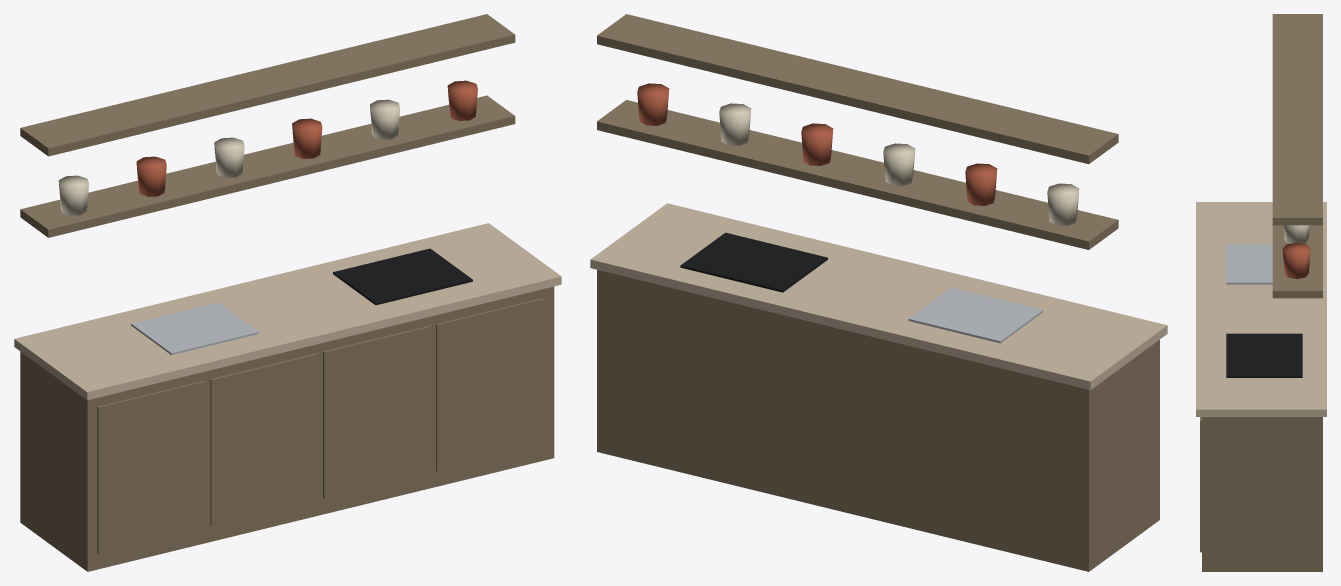
File: city_kitchen.glb
3 renders of one model, left to right at view 1: azimuth 30°, elevation 25°; view 2: azimuth 150°, elevation 25°; view 3: azimuth 270°, elevation 25°, orthographic. The views are drawn at different scales.
Parts seen in each view (by area): view 1: CityKitchen_Top, CityKitchen_Base, CityKitchen_Shelf1.9, CityKitchen_Door1, CityKitchen_Door0, CityKitchen_Door2, CityKitchen_Door3, CityKitchen_Shelf1.5, CityKitchen_Hob, CityKitchen_Sink, CityKitchen_Pot1, CityKitchen_Pot0 (+4 smaller); view 2: CityKitchen_Base, CityKitchen_Top, CityKitchen_Shelf1.9, CityKitchen_Shelf1.5, CityKitchen_Hob, CityKitchen_Sink, CityKitchen_Pot0, CityKitchen_Pot1, CityKitchen_Pot4, CityKitchen_Pot5, CityKitchen_Pot2, CityKitchen_Pot3; view 3: CityKitchen_Base, CityKitchen_Top, CityKitchen_Shelf1.9, CityKitchen_Hob, CityKitchen_Shelf1.5, CityKitchen_Sink, CityKitchen_Pot5, CityKitchen_Pot4, CityKitchen_Door3.
Boxes of the visible parts, box(x1,y1,x2,y2) form: CityKitchen_Top: box(14, 223, 561, 400); CityKitchen_Base: box(20, 286, 554, 571); CityKitchen_Shelf1.9: box(20, 14, 515, 156); CityKitchen_Door1: box(210, 353, 318, 526); CityKitchen_Door0: box(97, 380, 205, 553); CityKitchen_Door2: box(323, 325, 430, 498); CityKitchen_Door3: box(436, 298, 543, 471); CityKitchen_Shelf1.5: box(20, 95, 515, 237); CityKitchen_Hob: box(333, 248, 472, 305); CityKitchen_Sink: box(131, 302, 258, 355); CityKitchen_Pot1: box(136, 156, 166, 196); CityKitchen_Pot0: box(58, 175, 88, 215); CityKitchen_Base: box(597, 270, 1159, 571); CityKitchen_Top: box(590, 203, 1167, 389); CityKitchen_Shelf1.9: box(597, 14, 1118, 164); CityKitchen_Shelf1.5: box(597, 100, 1118, 249); CityKitchen_Hob: box(680, 232, 827, 292); CityKitchen_Sink: box(908, 287, 1043, 343); CityKitchen_Pot0: box(1047, 183, 1079, 225); CityKitchen_Pot1: box(965, 163, 997, 205); CityKitchen_Pot4: box(719, 103, 751, 145); CityKitchen_Pot5: box(637, 83, 669, 125); CityKitchen_Pot2: box(883, 143, 915, 185); CityKitchen_Pot3: box(801, 123, 833, 165); CityKitchen_Base: box(1202, 417, 1322, 571); CityKitchen_Top: box(1196, 202, 1326, 416); CityKitchen_Shelf1.9: box(1272, 14, 1322, 225); CityKitchen_Hob: box(1226, 333, 1302, 377); CityKitchen_Shelf1.5: box(1272, 225, 1322, 298); CityKitchen_Sink: box(1226, 244, 1272, 284); CityKitchen_Pot5: box(1282, 242, 1310, 278); CityKitchen_Pot4: box(1283, 225, 1309, 243); CityKitchen_Door3: box(1200, 417, 1201, 552).
Bounding box in the file's own units: 2.44 × 1.94 × 0.65.
